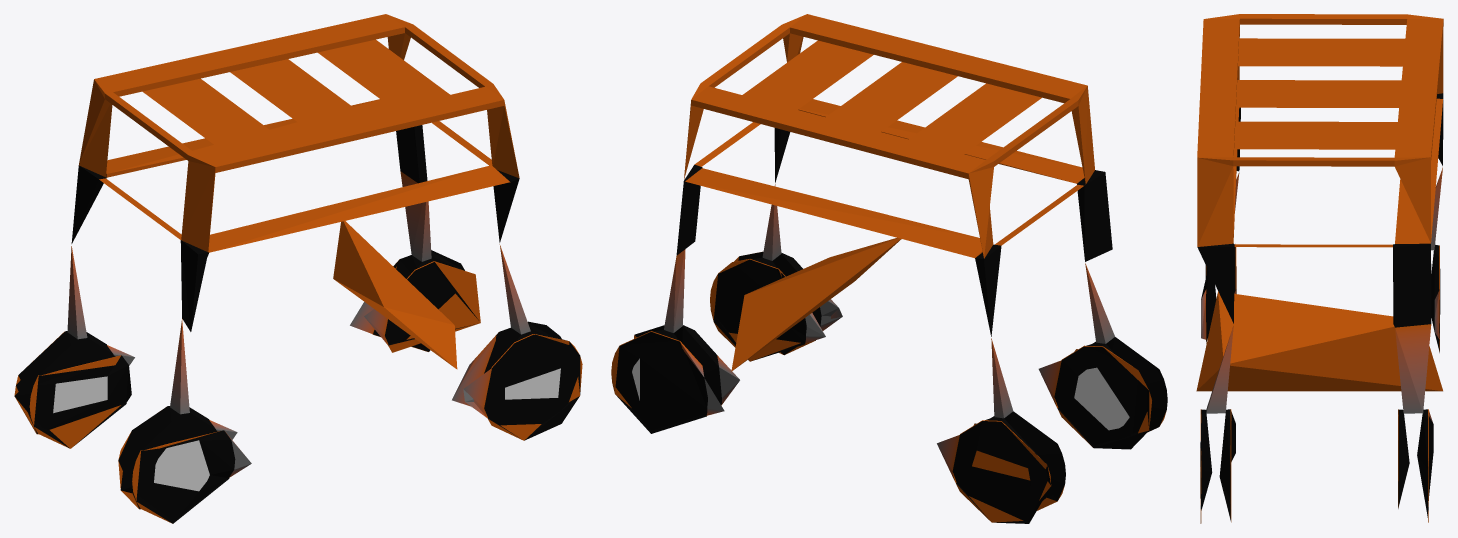
The model's file is straddle-carrier.lod2.glb.
3 views of the same model, side by side, from view 1: azimuth 30°, elevation 25°; view 2: azimuth 150°, elevation 25°; view 3: azimuth 270°, elevation 25° (orthographic).
Parts seen in each view (by area): view 1: Cube_Material_0; view 2: Cube_Material_0; view 3: Cube_Material_0.
Part boxes in pixels (x1,y1,x2,y2): Cube_Material_0: (14, 14, 582, 523); Cube_Material_0: (611, 14, 1167, 523); Cube_Material_0: (1196, 14, 1443, 523).
Size of the model in its own units: 18.83 by 13.96 by 9.03.
